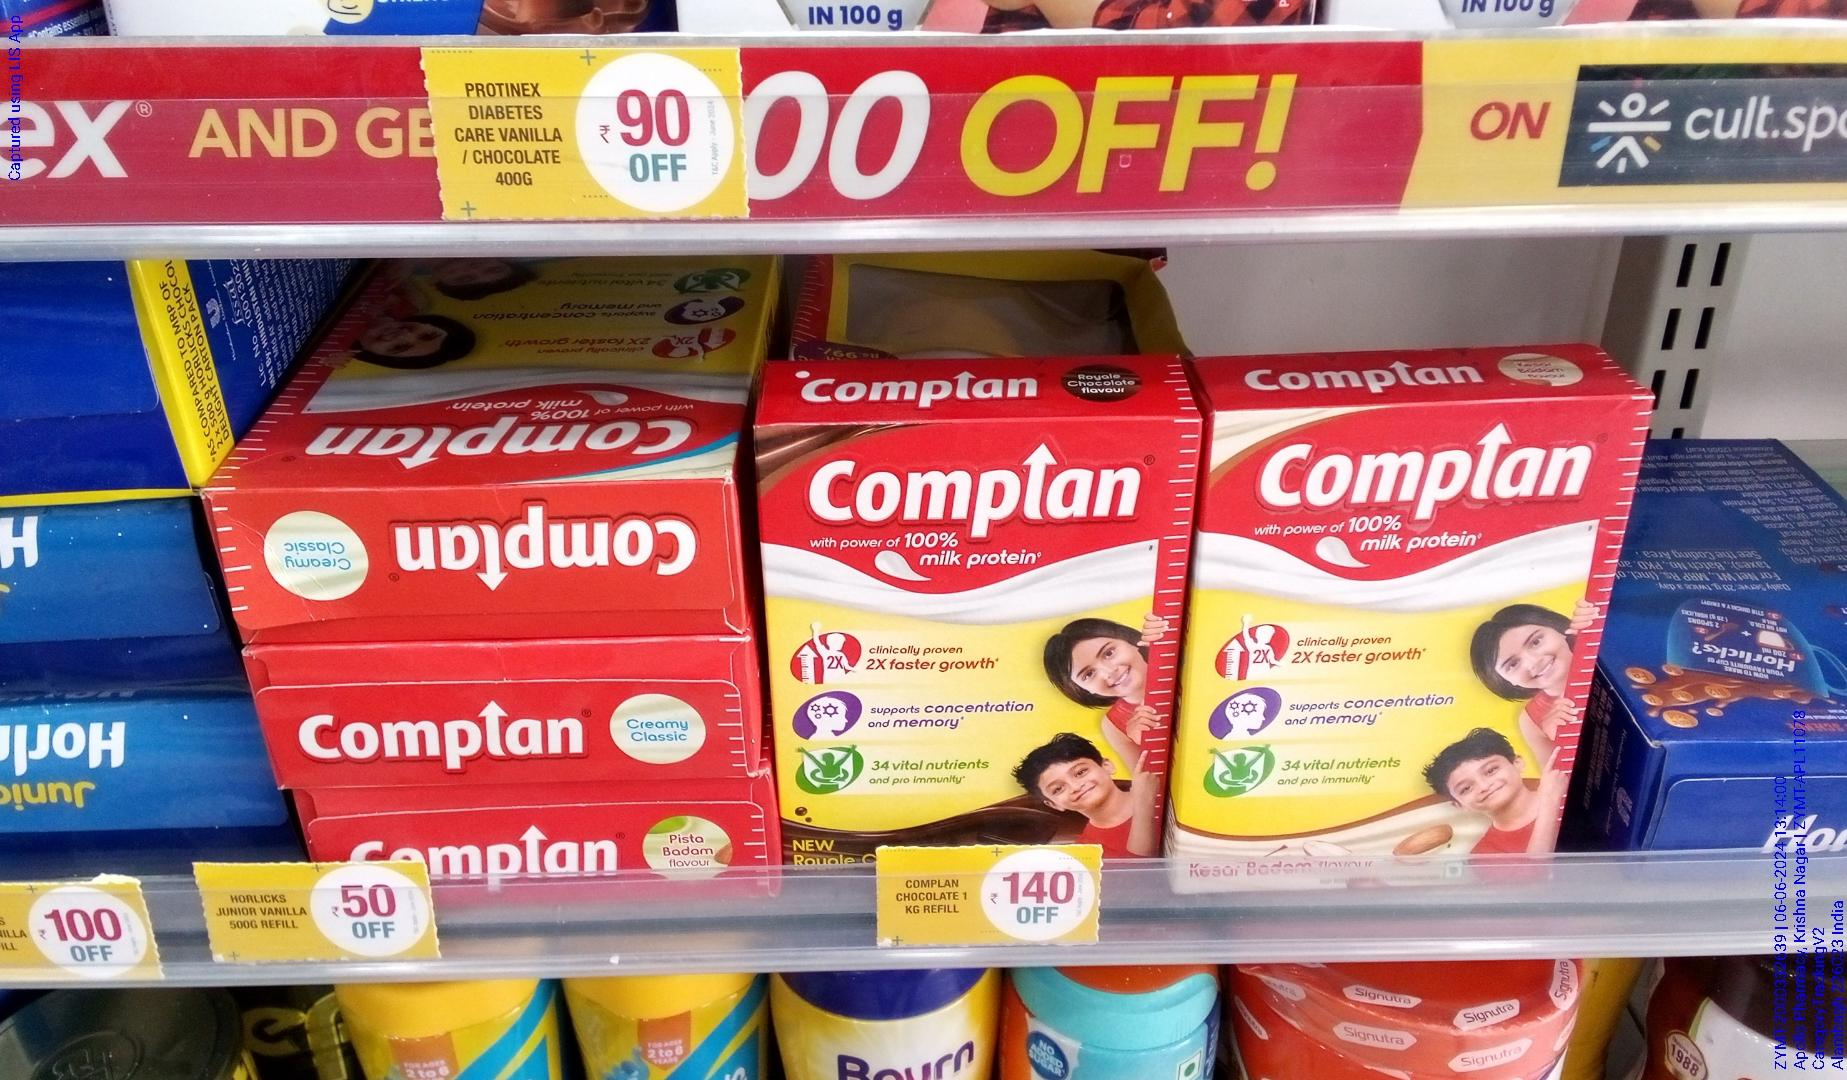COMPLAN_CHOCOLATE_200_GMS_PACK: (774, 420, 1171, 855)
COMPLAN_KESAR_BADAM_200_GMS_PACK: (1194, 408, 1611, 881)
